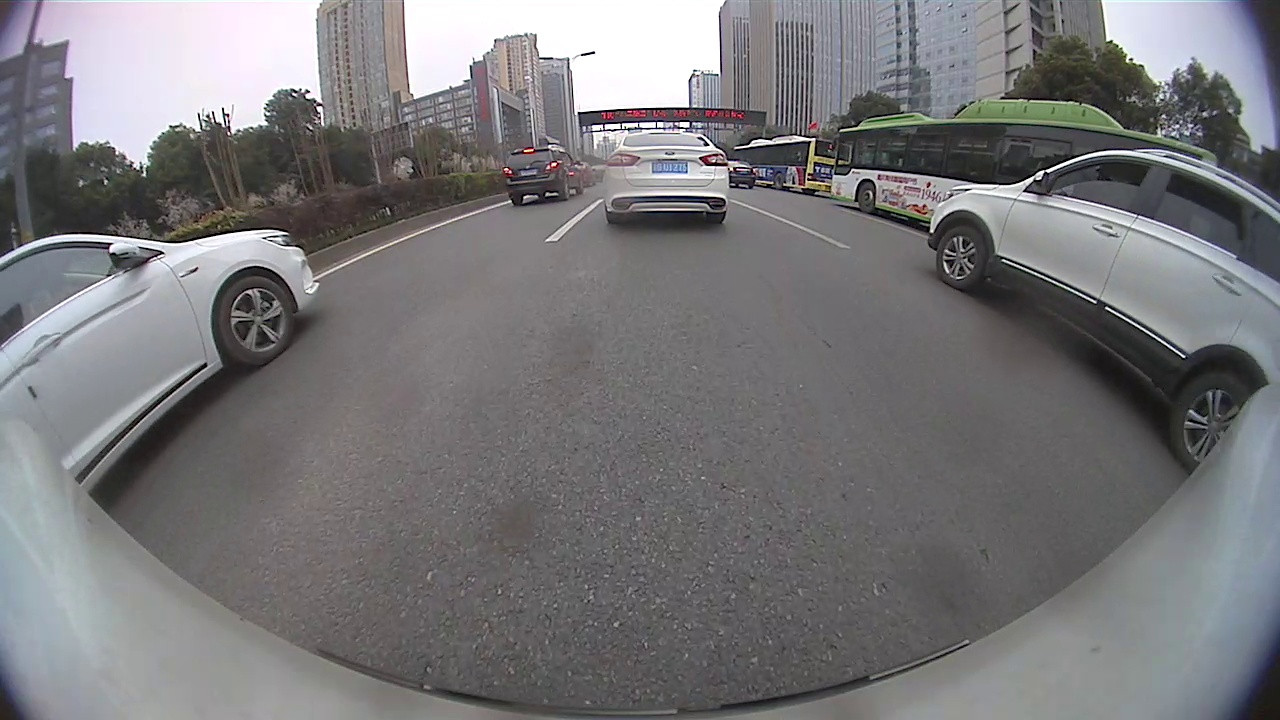bus: (828, 96, 1220, 227), (731, 133, 839, 197)
car: (924, 146, 1279, 477), (1, 227, 324, 496), (599, 128, 732, 228), (501, 142, 587, 208)
front: (216, 271, 299, 365), (934, 224, 988, 295), (856, 183, 879, 213)
rear: (1173, 363, 1258, 476), (774, 170, 789, 192)
